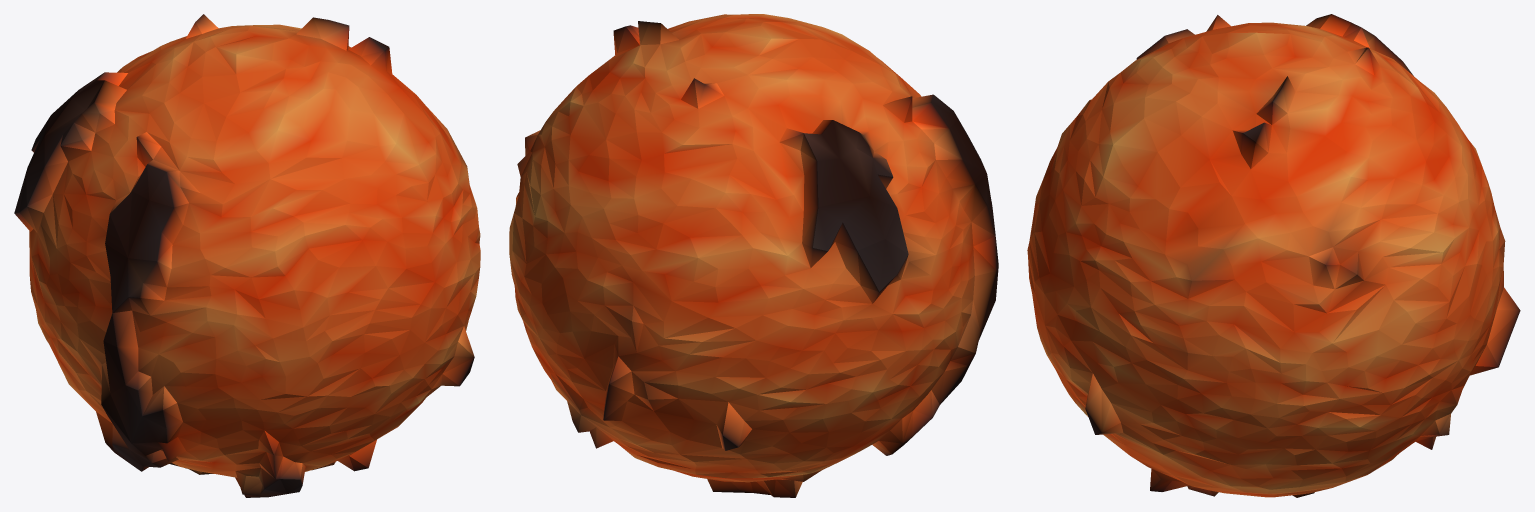
Rendered from barren_24.fbx.
3 views of the same model, side by side, from view 1: azimuth 30°, elevation 25°; view 2: azimuth 150°, elevation 25°; view 3: azimuth 270°, elevation 25° (orthographic). The views are drawn at different scales.
Parts seen in each view (by area): view 1: filecache1; view 2: filecache1; view 3: filecache1.
Part boxes in pixels (x1,y1,x2,y2): filecache1: (14,14,480,497); filecache1: (509,14,998,497); filecache1: (1027,14,1520,497).
Size of the model in its own units: 2.03 by 2.12 by 2.1.
